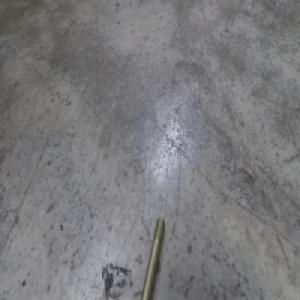Bolt: (139, 216, 164, 300)
